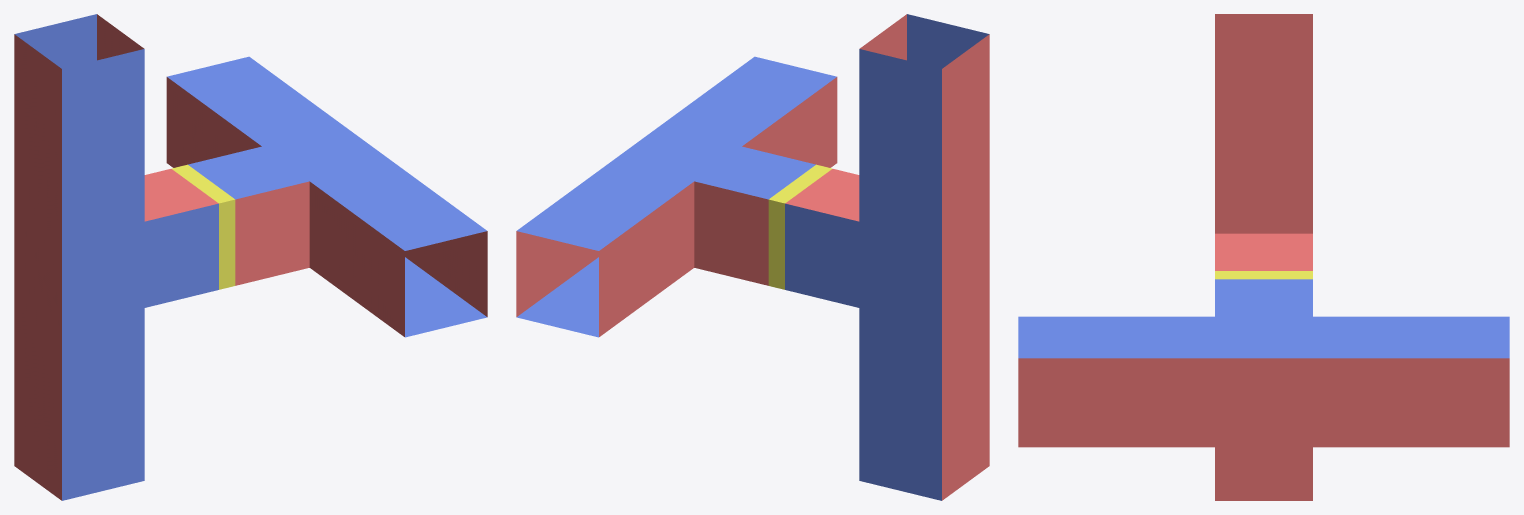
The picture shows the model from 3 angles, left to right: view 1: azimuth 30°, elevation 25°; view 2: azimuth 150°, elevation 25°; view 3: azimuth 270°, elevation 25°; orthographic projection. The views are drawn at different scales.
Parts seen in each view (by area): view 1: XZO (×6), XOZ (×6), OZXH (×6), XZX (×2), XXZ; view 2: XZO (×6), XOZ (×6), OZXH (×6), XZX (×2), XXZ; view 3: XOZ (×4), XZO (×3), XXZ (×2), OZXH (×3).
Part boxes in pixels (left/top/right/bottom): XZO (×6): left=14, top=14, right=144, bottom=500; XOZ (×6): left=166, top=56, right=487, bottom=337; OZXH (×6): left=144, top=146, right=309, bottom=307; XZX (×2): left=14, top=207, right=144, bottom=327; XXZ: left=262, top=126, right=391, bottom=181; XZO (×6): left=859, top=14, right=989, bottom=500; XOZ (×6): left=516, top=56, right=837, bottom=337; OZXH (×6): left=694, top=146, right=859, bottom=307; XZX (×2): left=859, top=207, right=989, bottom=327; XXZ: left=612, top=126, right=741, bottom=181; XOZ (×4): left=1018, top=316, right=1509, bottom=447; XZO (×3): left=1215, top=14, right=1312, bottom=500; XXZ (×2): left=1215, top=316, right=1312, bottom=447; OZXH (×3): left=1215, top=233, right=1312, bottom=316.
Bounding box in the file's own units: 4 × 5 × 5.
